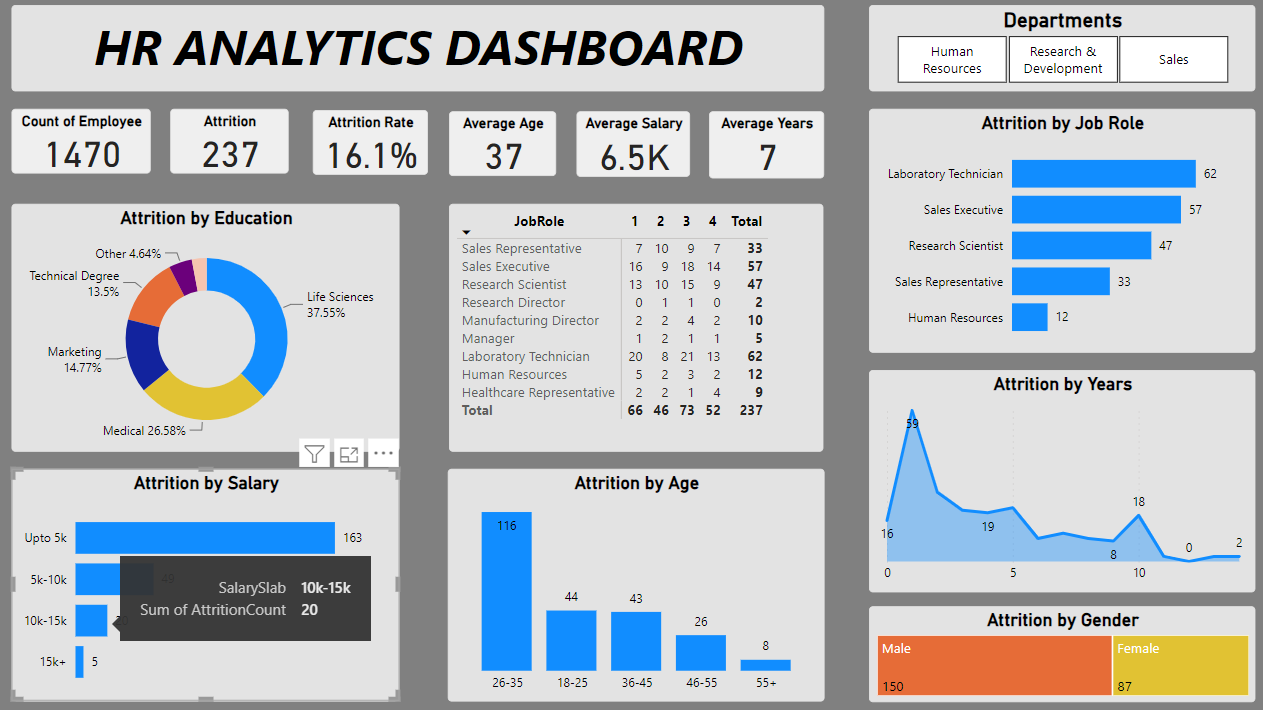

Layout of this report page (visuals, bound fields, positions):
{"tool":"powerbi","page":{"name":"Page 1","canvas":[1280,720],"ordinal":0},"visuals":[{"type":"card","title":"Count of Employee","fields":{"Values":["CountNonNull(HR_Analytics.EmpID)"]},"box":[17,113.8,139.4,64.9],"z":0},{"type":"card","title":"Attrition","fields":{"Values":["Sum(HR_Analytics.AttritionCount)"]},"box":[176.6,113.8,118.1,64.9],"z":1000},{"type":"card","title":"Attrition Rate","fields":{"Values":["HR_Analytics.AttritionRate"]},"box":[319.1,114.9,114.9,64.9],"z":2000},{"type":"card","title":"Average Age ","fields":{"Values":["Avg(HR_Analytics.Age)"]},"box":[455.3,116,107.4,64.9],"z":3000},{"type":"card","title":"Average Salary","fields":{"Values":["Avg(HR_Analytics.MonthlyIncome)"]},"box":[583,116,113.8,66],"z":4000},{"type":"card","title":"Average Years ","fields":{"Values":["Avg(HR_Analytics.YearsAtCompany)"]},"box":[714.9,116,114.9,67],"z":5000},{"type":"donutChart","title":"Attrition by Education","fields":{"Category":["HR_Analytics.EducationField"],"Y":["Sum(HR_Analytics.AttritionCount)"]},"box":[17,208.5,388.3,247.9],"z":6000},{"type":"columnChart","title":"Attrition by Age","fields":{"Category":["HR_Analytics.AgeGroup"],"Y":["Sum(HR_Analytics.AttritionCount)"]},"box":[453.2,473.4,376.6,233],"z":7000},{"type":"pivotTable","fields":{"Rows":["HR_Analytics.JobRole"],"Columns":["HR_Analytics.JobSatisfaction"],"Values":["Sum(HR_Analytics.AttritionCount)"]},"box":[455.3,208.5,374.5,247.9],"z":8000},{"type":"barChart","title":"Attrition by Salary","fields":{"Category":["HR_Analytics.SalarySlab"],"Y":["Sum(HR_Analytics.AttritionCount)"]},"box":[17,473.4,388.3,233],"z":9000},{"type":"barChart","title":"Attrition by Job Role","fields":{"Category":["HR_Analytics.JobRole"],"Y":["Sum(HR_Analytics.AttritionCount)"]},"box":[875.5,113.8,386.2,243.6],"z":10000},{"type":"areaChart","title":"Attrition by Years","fields":{"Category":["HR_Analytics.YearsAtCompany"],"Y":["Sum(HR_Analytics.AttritionCount)"]},"box":[875,375,386.2,222.5],"z":11000},{"type":"treemap","title":"Attrition by Gender","fields":{"Group":["HR_Analytics.Gender"],"Values":["Sum(HR_Analytics.AttritionCount)"]},"box":[875.5,610.6,386.2,95.7],"z":12000},{"type":"slicer","title":"Departments","fields":{"Values":["HR_Analytics.Department"]},"box":[875.5,9.6,386.2,86.2],"z":13000},{"type":"textbox","box":[17,9.6,812.8,86.2],"z":14000}]}

Visuals, with their boxes in screenshot pixels (x1, y1, x2, y2), scaled from the page's 1280x720 canvas onto the 1263x710 screenshot:
"Count of Employee" card: <bbox>17, 112, 154, 176</bbox>
"Attrition" card: <bbox>174, 112, 291, 176</bbox>
"Attrition Rate" card: <bbox>315, 113, 428, 177</bbox>
"Average Age " card: <bbox>449, 114, 555, 178</bbox>
"Average Salary" card: <bbox>575, 114, 688, 179</bbox>
"Average Years " card: <bbox>705, 114, 819, 180</bbox>
"Attrition by Education" donutChart: <bbox>17, 206, 400, 450</bbox>
"Attrition by Age" columnChart: <bbox>447, 467, 819, 697</bbox>
pivotTable - HR_Analytics.JobRole x HR_Analytics.JobSatisfaction: <bbox>449, 206, 819, 450</bbox>
"Attrition by Salary" barChart: <bbox>17, 467, 400, 697</bbox>
"Attrition by Job Role" barChart: <bbox>864, 112, 1245, 352</bbox>
"Attrition by Years" areaChart: <bbox>863, 370, 1244, 589</bbox>
"Attrition by Gender" treemap: <bbox>864, 602, 1245, 696</bbox>
"Departments" slicer: <bbox>864, 9, 1245, 94</bbox>
textbox: <bbox>17, 9, 819, 94</bbox>
